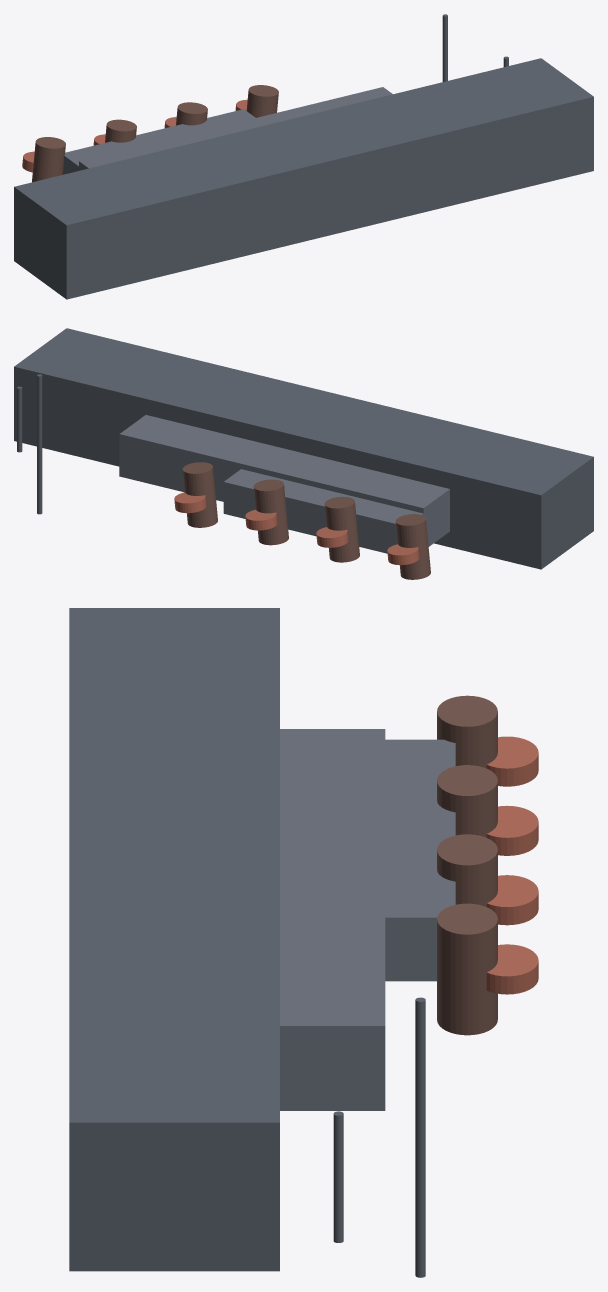
File: ship.glb
The picture shows the model from 3 angles, top to bottom: view 1: azimuth 30°, elevation 25°; view 2: azimuth 150°, elevation 25°; view 3: azimuth 270°, elevation 25°; orthographic projection. The views are drawn at different scales.
Visible parts, largest first — view 1: hull, Cube, Cube.001, Cylinder, Cylinder.006, Cylinder.004, Cylinder.002, Cylinder.009; view 2: hull, Cube, Cube.001, Cylinder, Cylinder.004, Cylinder.006, Cylinder.002, Cylinder.009, Cylinder.003, Cylinder.005, Cylinder.007, Cylinder.001 (+1 smaller); view 3: hull, Cube, Cube.001, Cylinder.006, Cylinder, Cylinder.002, Cylinder.004, Cylinder.009, Cylinder.007, Cylinder.001, Cylinder.005, Cylinder.003 (+1 smaller).
Part boxes in pixels (left/top/right/bottom): hull: left=14, top=58, right=593, bottom=299; Cube: left=79, top=87, right=392, bottom=170; Cube.001: left=63, top=109, right=255, bottom=174; Cylinder: left=32, top=137, right=65, bottom=182; Cylinder.006: left=246, top=85, right=278, bottom=117; Cylinder.004: left=176, top=102, right=207, bottom=125; Cylinder.002: left=105, top=119, right=136, bottom=142; Cylinder.009: left=442, top=14, right=447, bottom=81; hull: left=14, top=328, right=593, bottom=569; Cube: left=119, top=415, right=449, bottom=546; Cube.001: left=223, top=469, right=435, bottom=553; Cylinder: left=395, top=514, right=430, bottom=579; Cylinder.004: left=253, top=479, right=288, bottom=545; Cylinder.006: left=182, top=462, right=217, bottom=527; Cylinder.002: left=324, top=496, right=359, bottom=562; Cylinder.009: left=37, top=374, right=42, bottom=514; Cylinder.003: left=316, top=527, right=348, bottom=547; Cylinder.005: left=245, top=509, right=277, bottom=530; Cylinder.007: left=174, top=492, right=206, bottom=513; Cylinder.001: left=387, top=544, right=419, bottom=565; hull: left=69, top=608, right=279, bottom=1271; Cube: left=280, top=729, right=385, bottom=1110; Cube.001: left=385, top=739, right=455, bottom=981; Cylinder.006: left=437, top=903, right=497, bottom=1035; Cylinder: left=437, top=695, right=497, bottom=768; Cylinder.002: left=437, top=765, right=497, bottom=837; Cylinder.004: left=437, top=834, right=497, bottom=906; Cylinder.009: left=415, top=997, right=425, bottom=1277; Cylinder.007: left=486, top=944, right=538, bottom=994; Cylinder.001: left=486, top=736, right=538, bottom=786; Cylinder.005: left=486, top=875, right=538, bottom=925; Cylinder.003: left=486, top=805, right=538, bottom=855.
Bounding box in the file's own units: 52 × 13 × 20.04.
